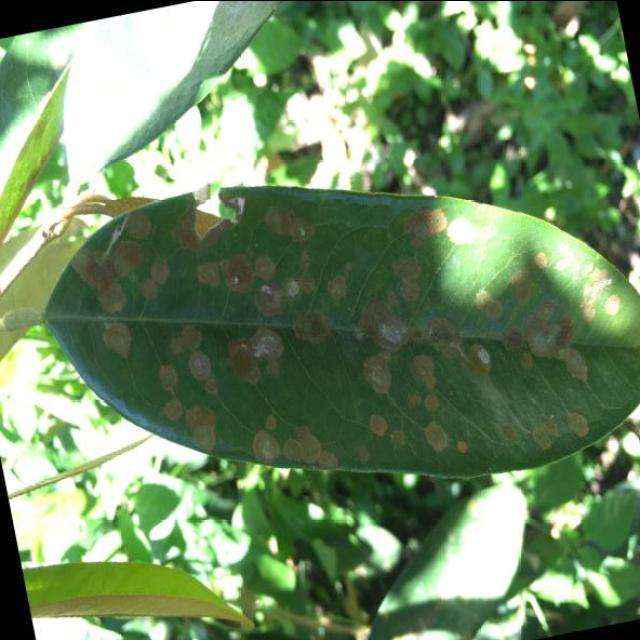Algal Leaf Spot: (14, 96, 640, 558)
